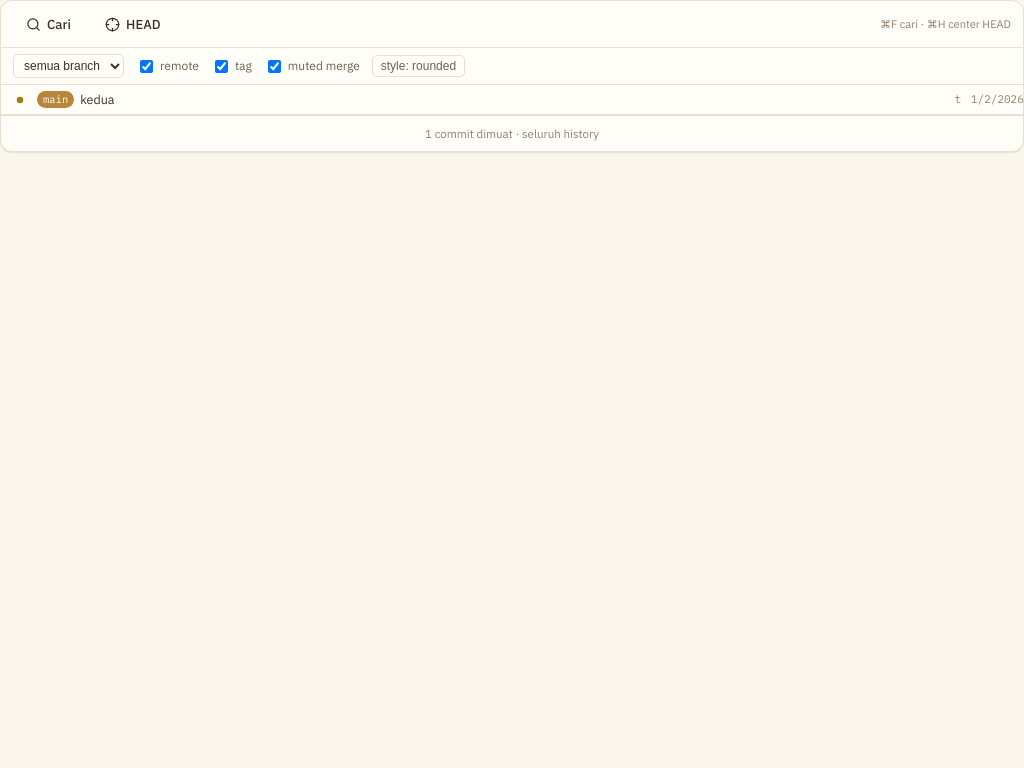
it: rantai gulir pane tak boleh putus (SPEC-393) › IDE · Git Graph — pane badan modal berkas
The image size is (1024, 768).
Click the text "kedua" at (97, 100), box [80, 90, 114, 109]
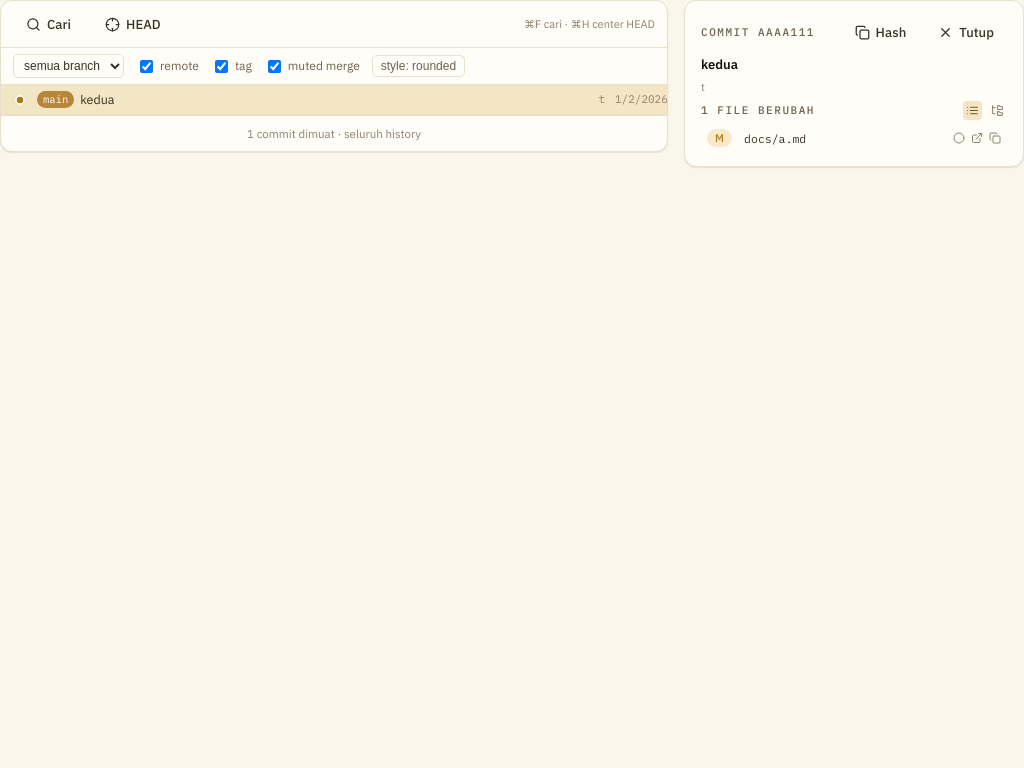
Click the button "docs/a.md" at (843, 138), box [738, 130, 947, 146]
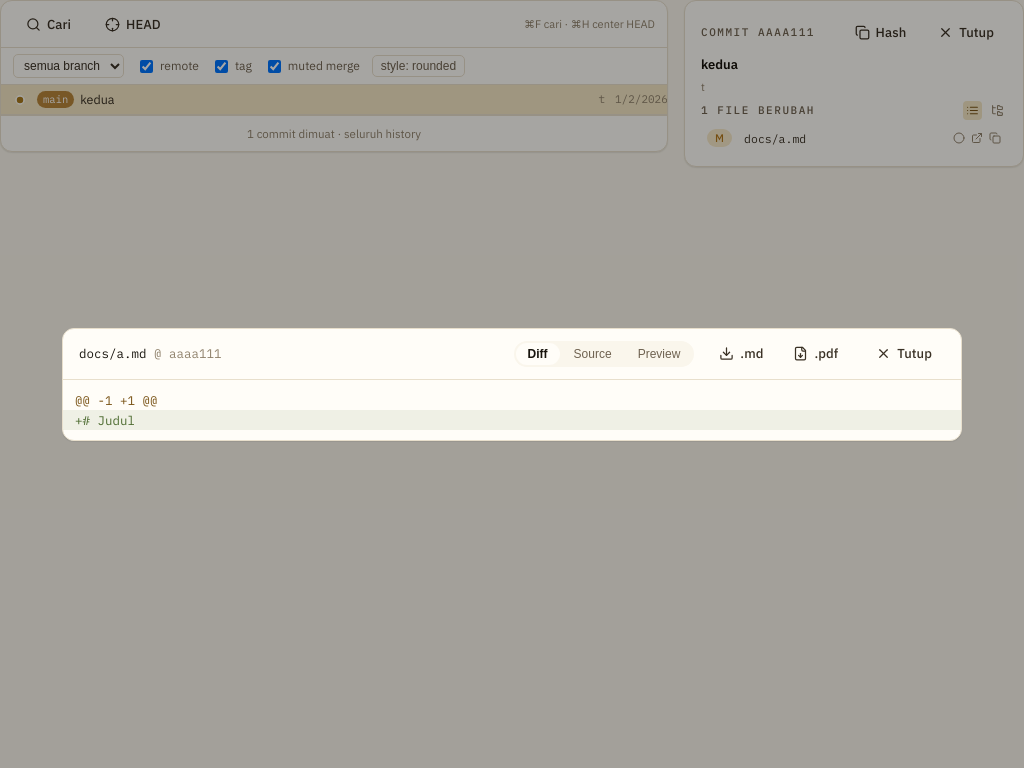
Result: the element with test id "gitgraph-file-scroll" is shown at [63, 380, 961, 440]
